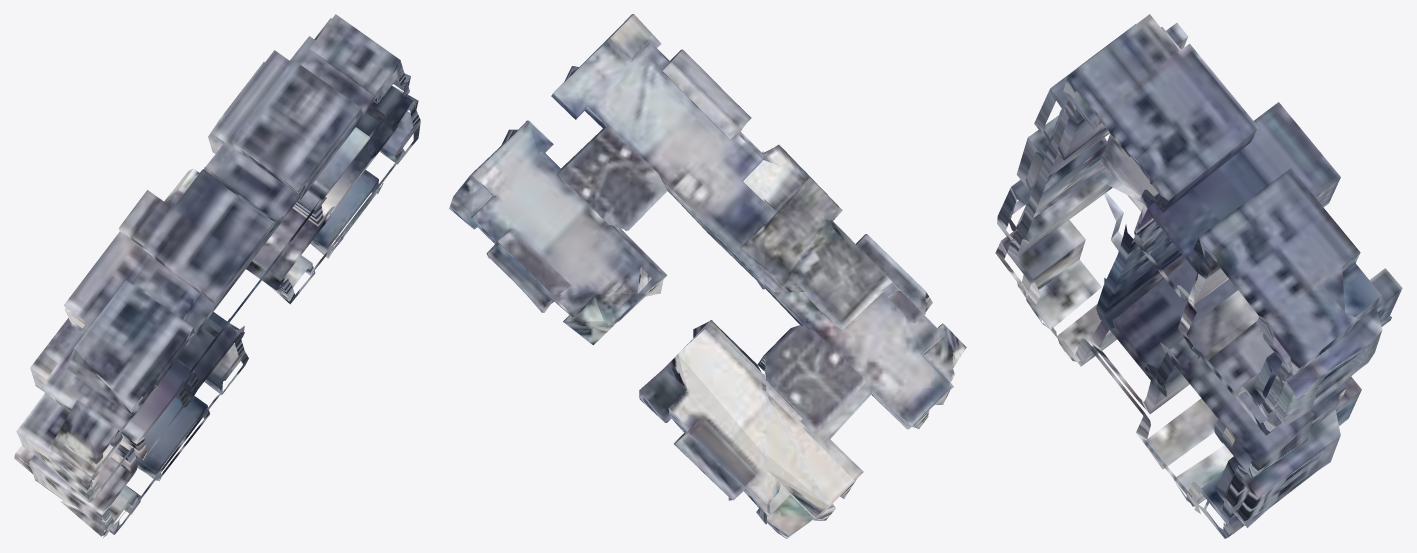
The picture shows the model from 3 angles, left to right: view 1: azimuth 30°, elevation 25°; view 2: azimuth 150°, elevation 25°; view 3: azimuth 270°, elevation 25°; orthographic projection. The views are drawn at different scales.
Size of the model in its own units: 51.79 by 51.93 by 29.58.
1 material, 1 textured.
